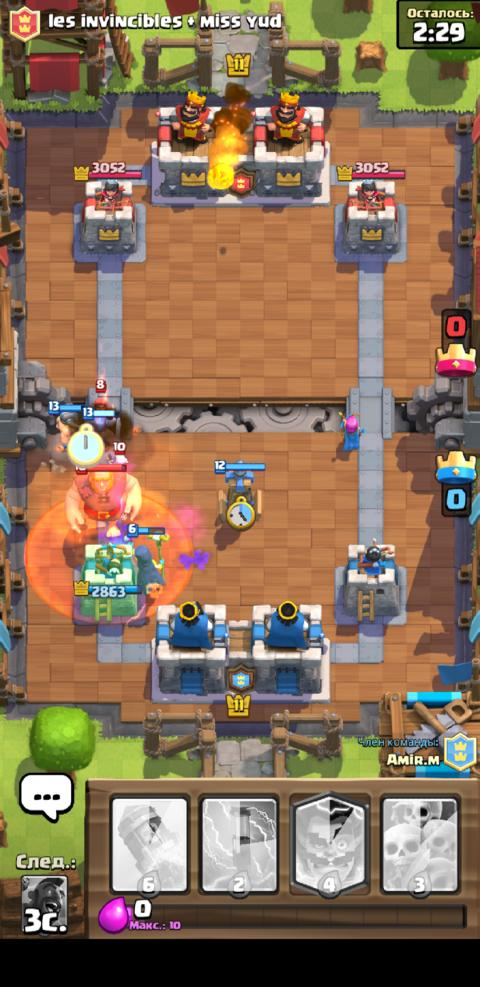ally_archer: (337, 409, 365, 451)
ally_elite_barbarian: (47, 400, 80, 451), (81, 406, 119, 445)
ally_tesla: (211, 454, 267, 524)
ally_witch: (126, 523, 167, 591)
enemy_fireball: (203, 112, 248, 192)
enemy_giant: (62, 461, 142, 541)
enemy_skeleton: (105, 440, 127, 463)
enemy_wizard: (89, 378, 112, 410)
